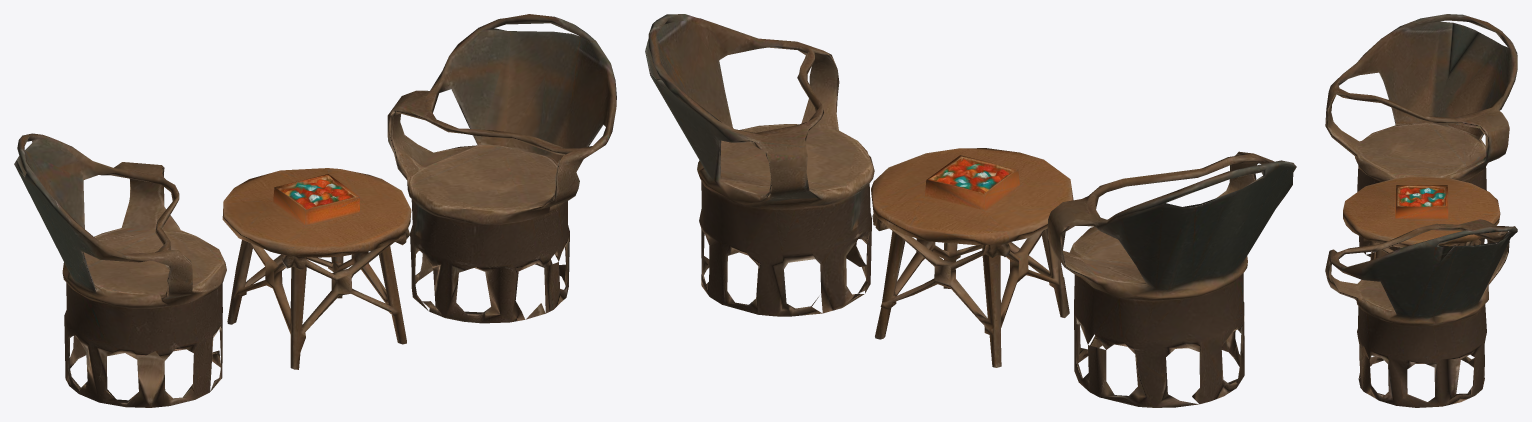
Rendered from drum_chairs.glb.
The picture shows the model from 3 angles, left to right: view 1: azimuth 30°, elevation 25°; view 2: azimuth 150°, elevation 25°; view 3: azimuth 270°, elevation 25°; orthographic projection. The views are drawn at different scales.
Bounding box in the file's own units: 1.9 × 0.7376 × 0.6829.
Materials: 1 (1 with a texture image).
